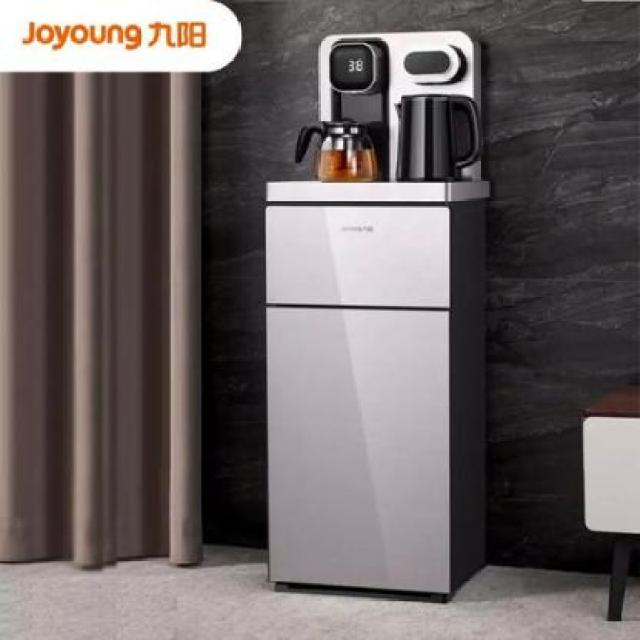cooler: (260, 31, 493, 601)
